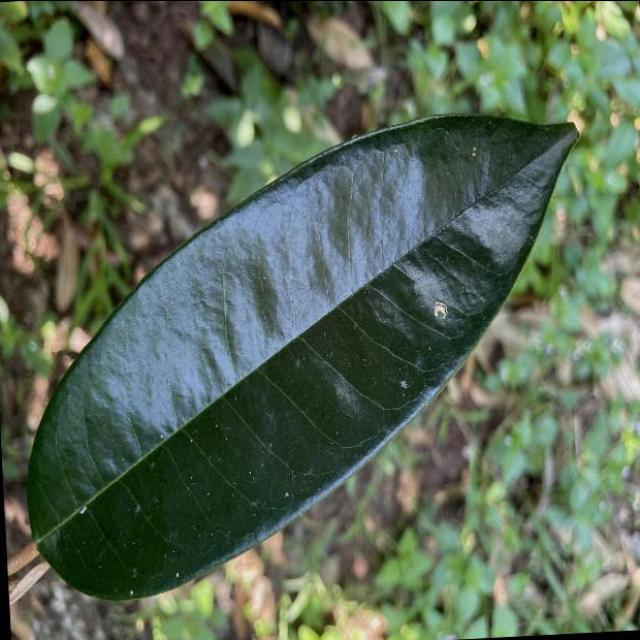No Disease: (0, 95, 611, 609)
